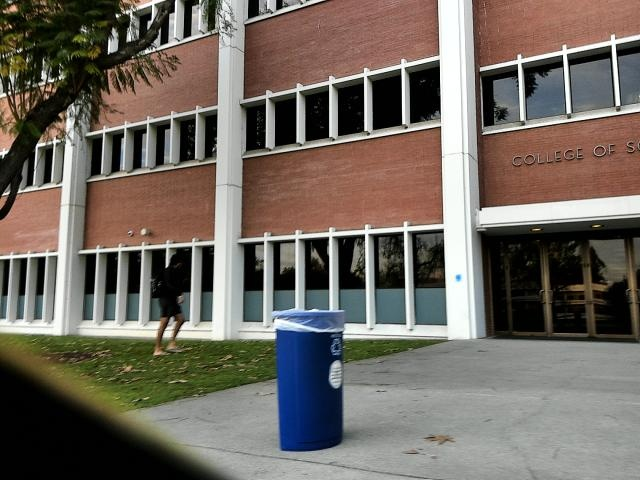trashcan_open: (271, 305, 351, 461)
